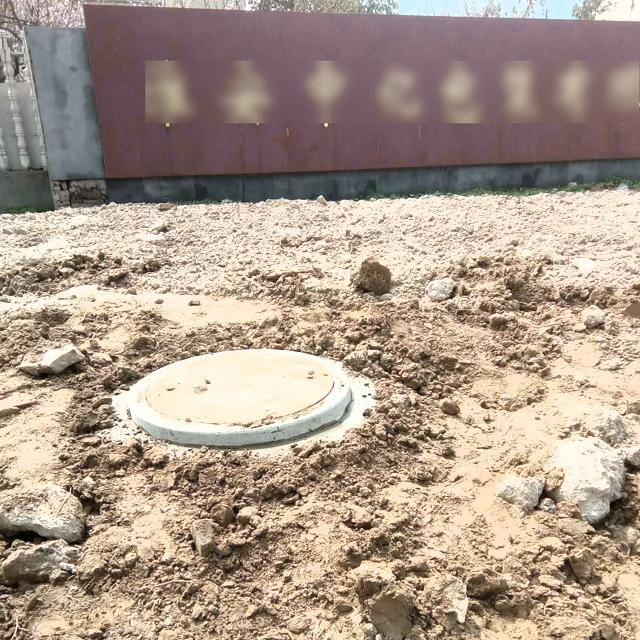good: (127, 342, 369, 434)
